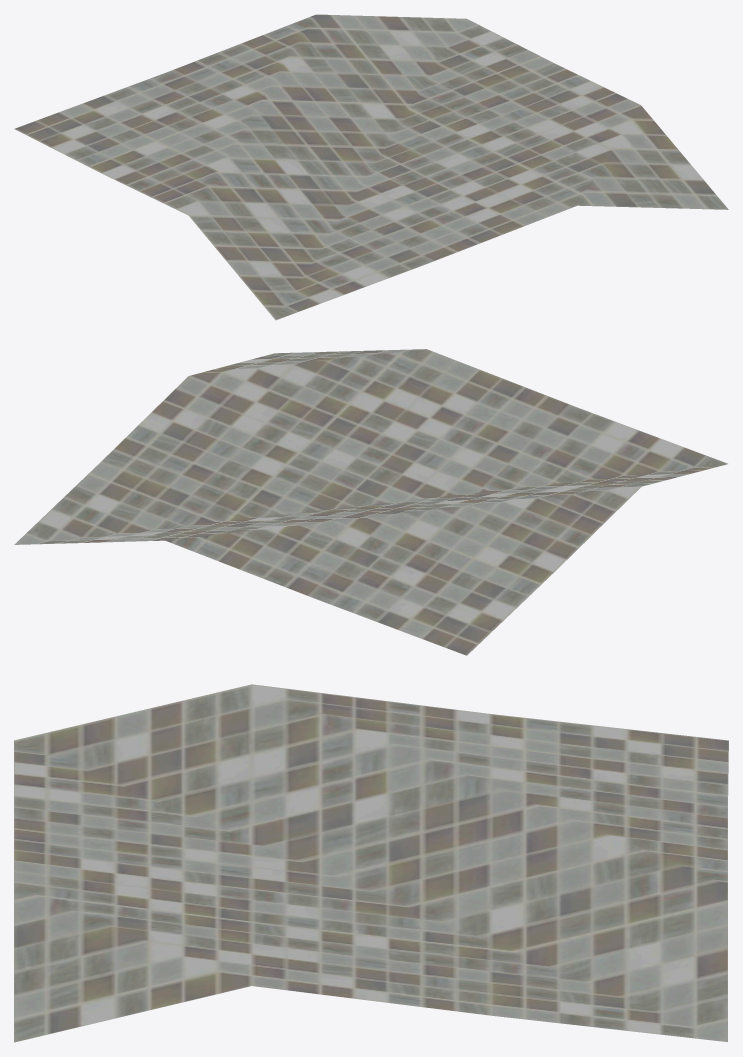
File: wasser_3x3_timetest_2280.glb
3 views of the same model, one above another, from view 1: azimuth 30°, elevation 25°; view 2: azimuth 150°, elevation 25°; view 3: azimuth 270°, elevation 25° (orthographic). The views are drawn at different scales.
Parts seen in each view (by area): view 1: pPlaneShape19; view 2: pPlaneShape19; view 3: pPlaneShape19.
Boxes of the visible parts, left/top/right/bottom form: pPlaneShape19: left=14, top=14, right=728, bottom=320; pPlaneShape19: left=14, top=349, right=727, bottom=655; pPlaneShape19: left=14, top=684, right=728, bottom=1042.
Size of the model in its own units: 0.6009 by 0.0521 by 0.6009.
Materials: 1 (1 with a texture image).
